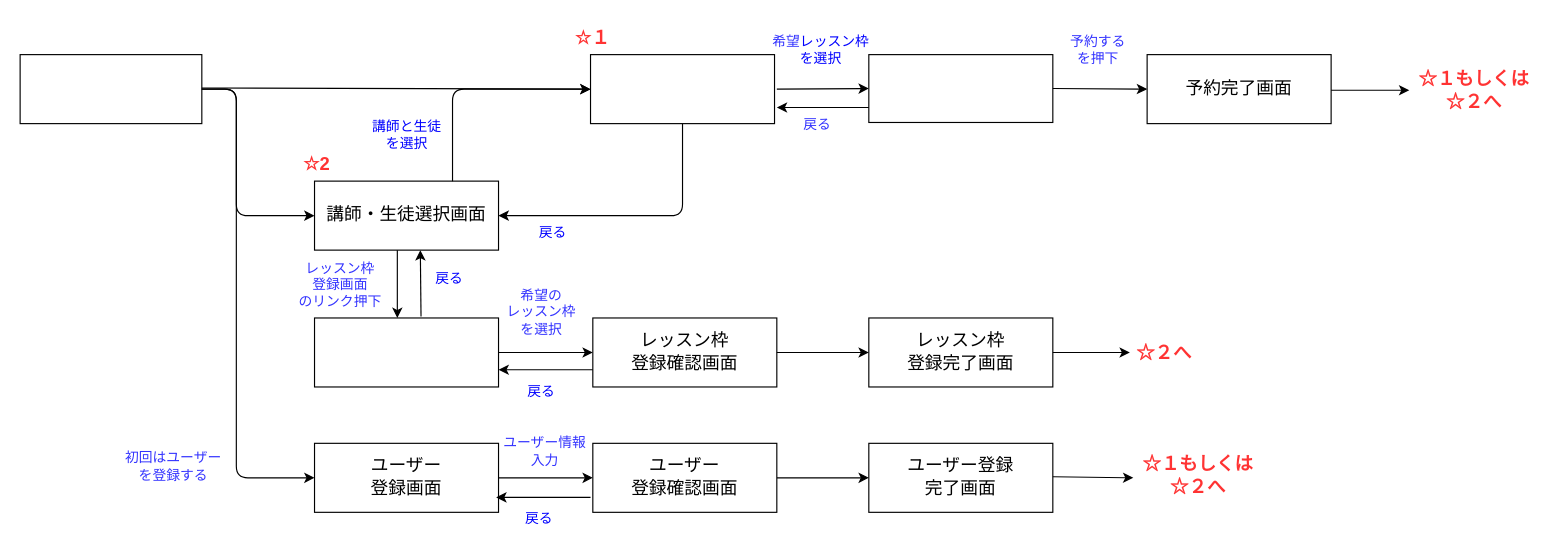
The diagram is 1559 pixels wide and 555 high, and some of its shapes have lost their labels. The shapes that lost their labels are listed below. From the top down, each one's centre as x and y in pixels, then its label:
the point at 110,88: ログイン画面
the point at 682,88: 空き枠選択画面
the point at 960,87: 予約確認画面
the point at 406,352: レッスン枠 登録画面
